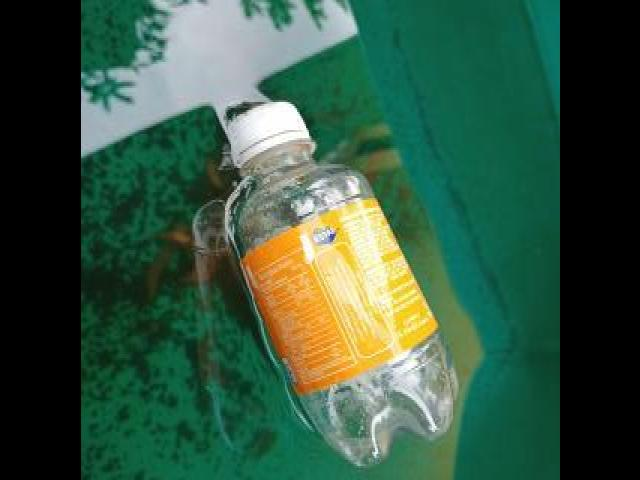Bottle: (217, 92, 463, 476)
